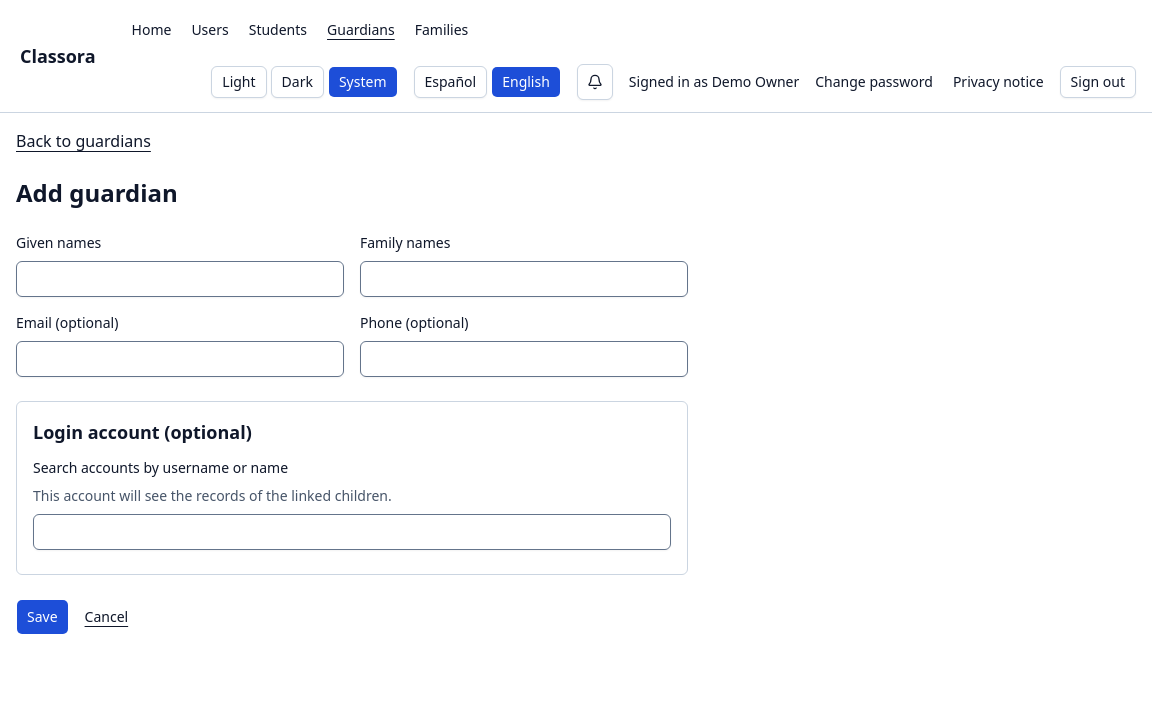
Test case: the form (I2) › validates names before sending
Click the button "Save" at (42, 617), box [16, 599, 69, 635]
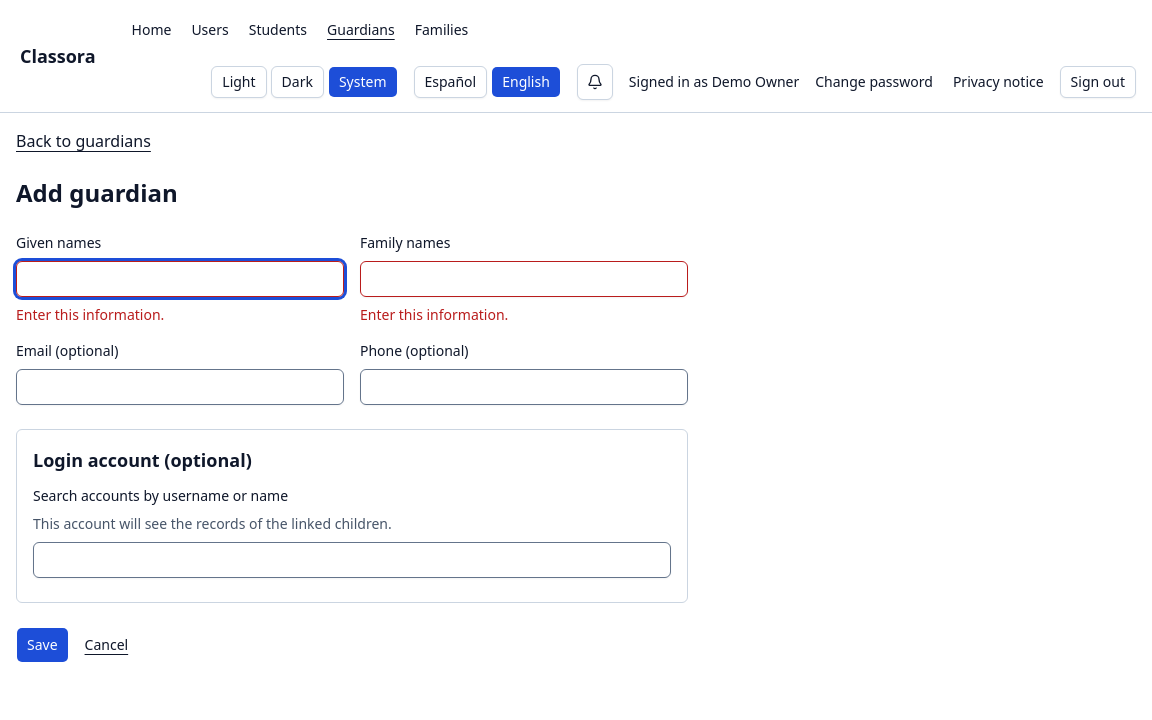
Now the element that starts with "Back to guardians" shows "Enter this information.", box [16, 305, 164, 324]
